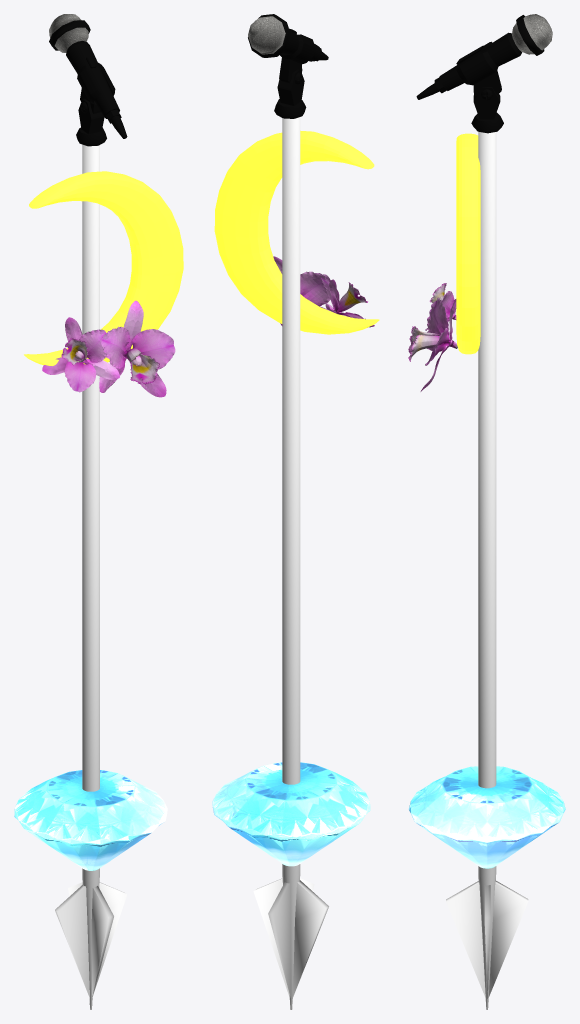
The model's file is ISA RAJA stand real scale.glb.
3 renders of one model, left to right at view 1: azimuth 30°, elevation 25°; view 2: azimuth 150°, elevation 25°; view 3: azimuth 270°, elevation 25°, orthographic. The views are drawn at different scales.
Visible parts, largest first — view 1: pCone1.001_Diamond_Export_0; view 2: pCone1.001_Diamond_Export_0; view 3: pCone1.001_Diamond_Export_0.
Boxes of the visible parts, bbox=[...] form: pCone1.001_Diamond_Export_0: bbox=[14, 14, 183, 1009]; pCone1.001_Diamond_Export_0: bbox=[212, 14, 379, 1009]; pCone1.001_Diamond_Export_0: bbox=[408, 14, 565, 1009].
Bounding box in the file's own units: 0.2461 × 1.47 × 0.2117.
Materials: 6 (3 with a texture image).
